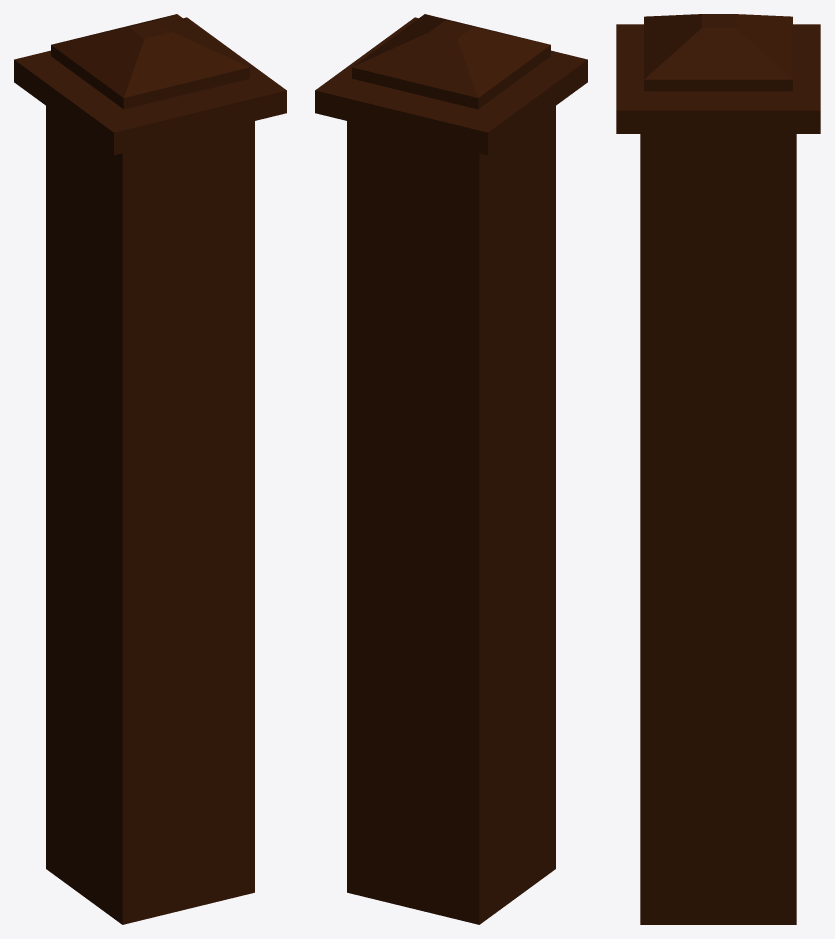
Rendered from Fence Post.fbx.
The picture shows the model from 3 angles, left to right: view 1: azimuth 30°, elevation 25°; view 2: azimuth 150°, elevation 25°; view 3: azimuth 270°, elevation 25°; orthographic projection. The views are drawn at different scales.
Visible parts, largest first — view 1: Cube.012; view 2: Cube.012; view 3: Cube.012.
Boxes of the visible parts, x1=… form: Cube.012: x1=14, y1=14, x2=286, y2=924; Cube.012: x1=315, y1=14, x2=587, y2=924; Cube.012: x1=616, y1=14, x2=820, y2=924.
Size of the model in its own units: 0.6538 by 3.07 by 0.6538.
